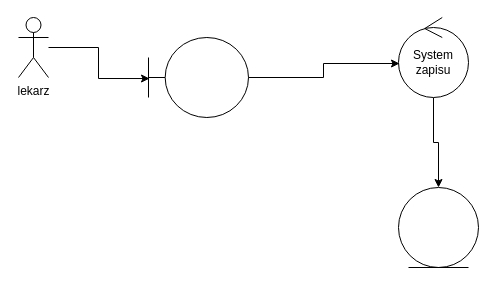
Some shapes in this 496 by 285 pixel diagram are drawn without their labels. Each missing label, with the centre of its shape:
Dane wizyty: [438,227]
Formularz wizyty: [198,77]
